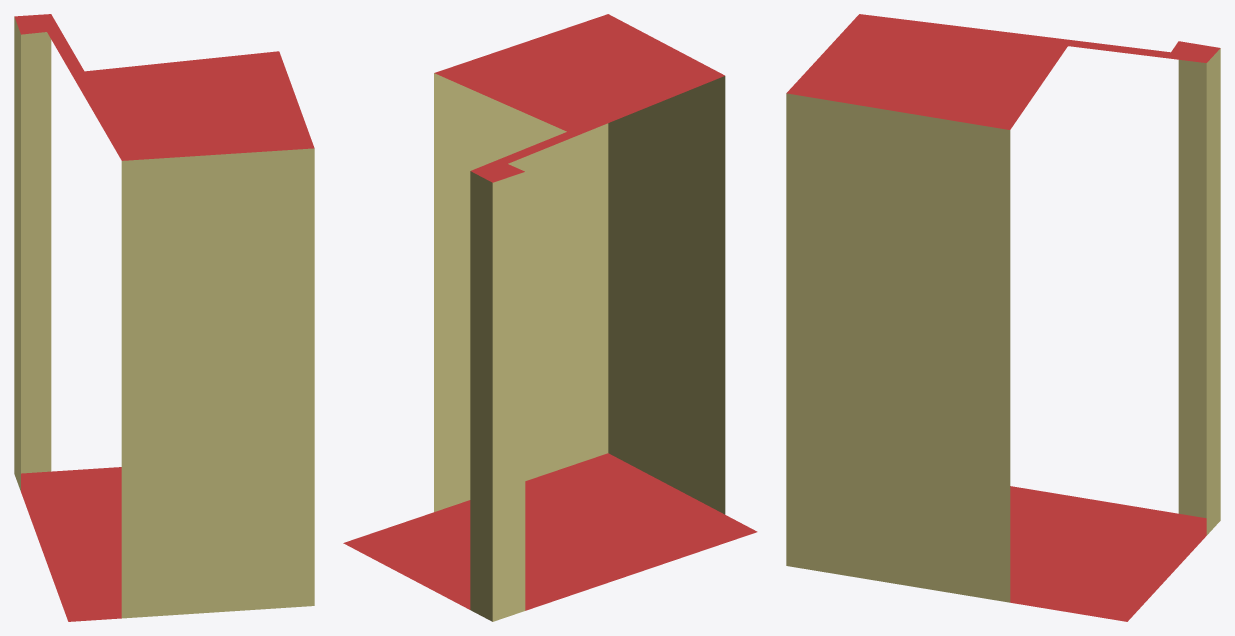
3 renders of one model, left to right at view 1: azimuth 30°, elevation 25°; view 2: azimuth 150°, elevation 25°; view 3: azimuth 270°, elevation 25°, orthographic. The views are drawn at different scales.
Size of the model in its own units: 4.95 by 5.77 by 6.93.
